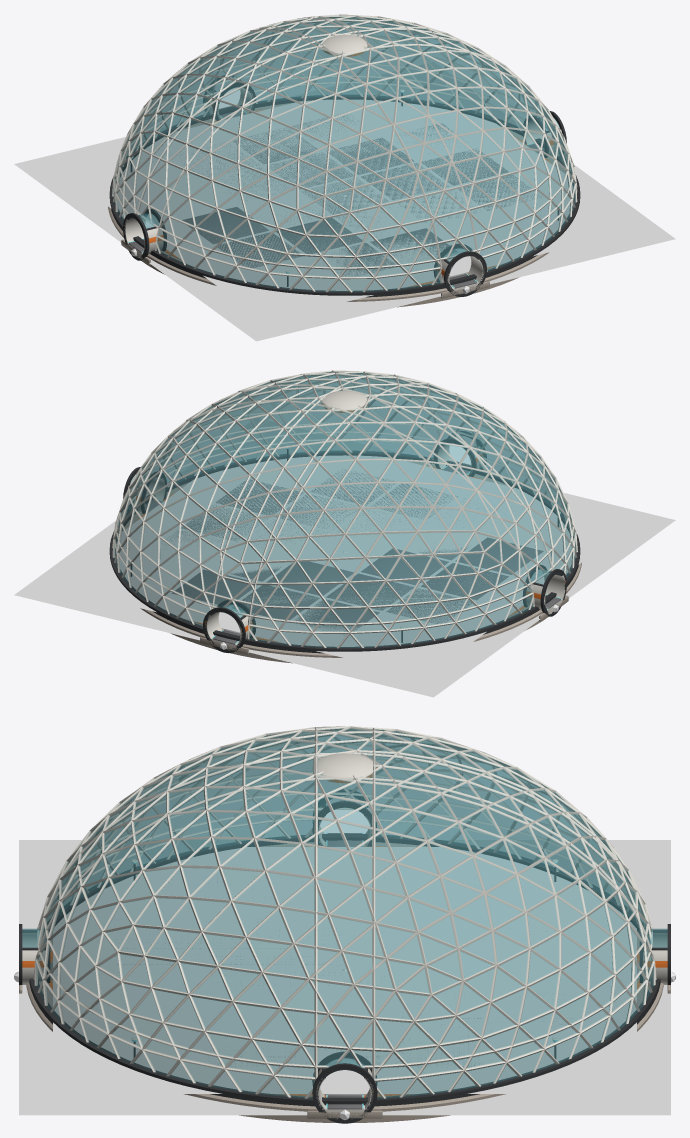
Rendered from dome_7x7.gltf.
The picture shows the model from 3 angles, top to bottom: view 1: azimuth 30°, elevation 25°; view 2: azimuth 150°, elevation 25°; view 3: azimuth 270°, elevation 25°; orthographic projection. The views are drawn at different scales.
Visible parts, largest first — view 1: DomeMedium, %P%Interior, %P%Footprint; view 2: DomeMedium, %P%Interior, %P%Footprint; view 3: DomeMedium, %P%Interior, %P%Footprint.
Boxes of the visible parts, x1,y1,x2,y2 form: DomeMedium: (108,14,580,307); %P%Interior: (49,73,640,321); %P%Footprint: (14,62,675,341); DomeMedium: (109,370,581,663); %P%Interior: (49,428,640,677); %P%Footprint: (14,418,675,697); DomeMedium: (19,726,670,1123); %P%Interior: (53,847,636,1093); %P%Footprint: (19,840,670,1115).
Bounding box in the file's own units: 14.23 × 5.37 × 14.22.
